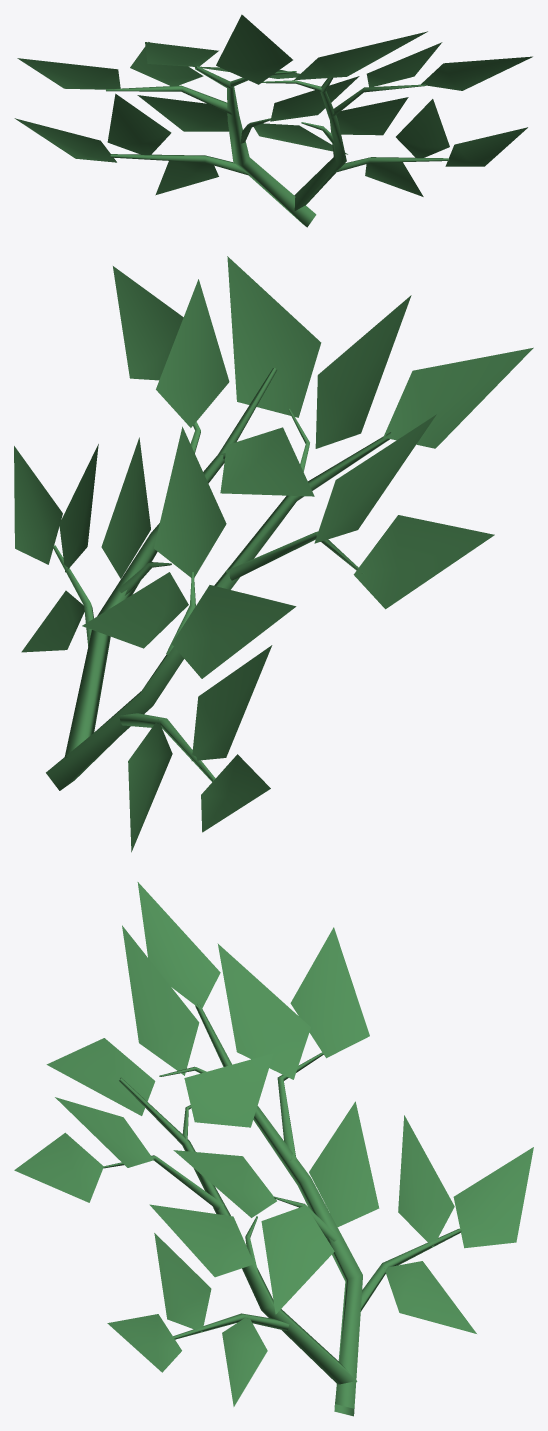
Rendered from plant2.fbx.
3 views of the same model, one above another, from view 1: azimuth 30°, elevation 25°; view 2: azimuth 150°, elevation 25°; view 3: azimuth 270°, elevation 25° (orthographic). The views are drawn at different scales.
Parts seen in each view (by area): view 1: plant2; view 2: plant2; view 3: plant2.
Part boxes in pixels (<box>): plant2: <box>14,14,532,227</box>; plant2: <box>14,256,533,852</box>; plant2: <box>14,882,533,1416</box>.
Size of the model in its own units: 3.22 by 2.29 by 2.71.
